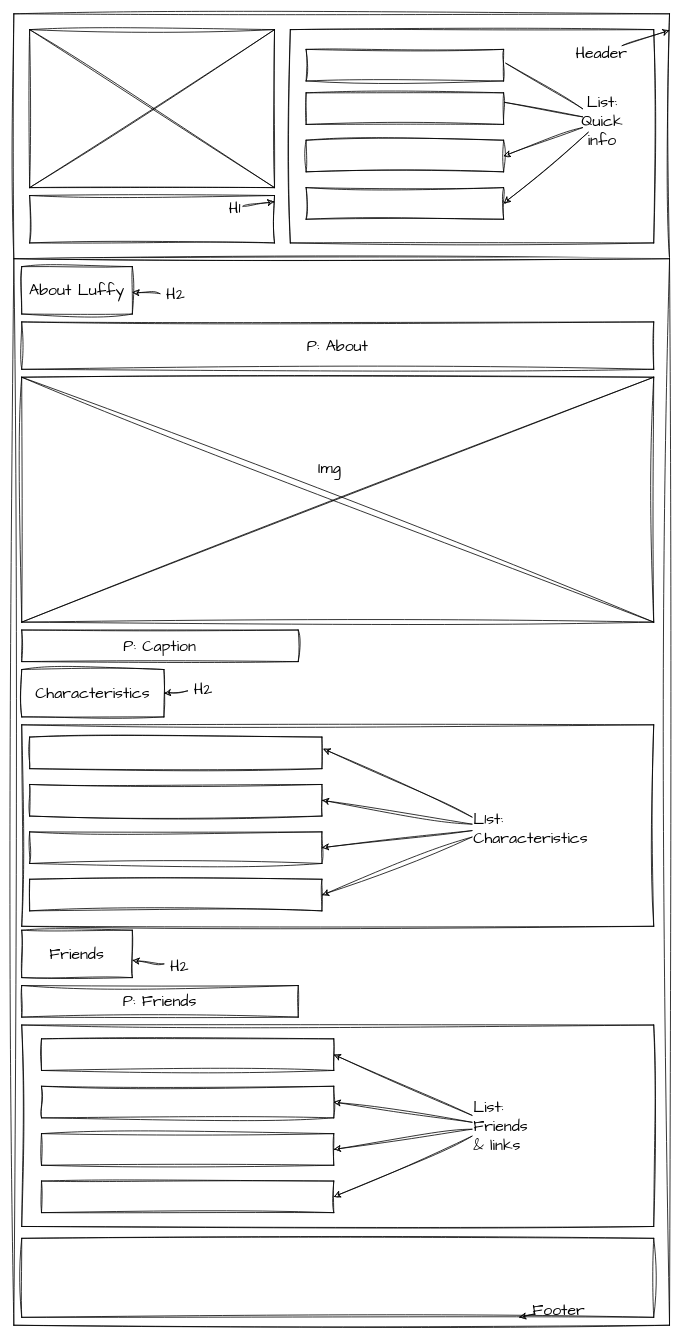
The diagram is 690 pixels wide and 1339 high, and some of its shapes have lost their labels. Here are the shapes that lost their labels. From the top down, the box of each, then its label:
(29, 29, 275, 188): Img: Avatar
(29, 195, 275, 243): Luffy
(21, 1238, 654, 1317): P: Info
